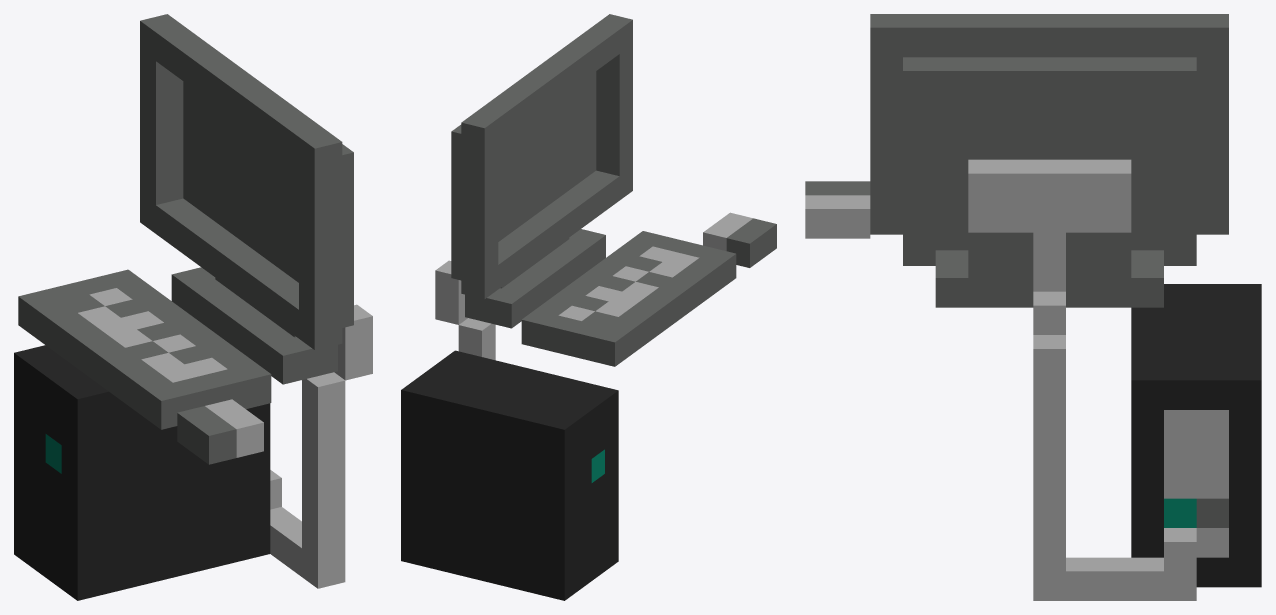
The model's file is pc-frame.obj.
The picture shows the model from 3 angles, left to right: view 1: azimuth 30°, elevation 25°; view 2: azimuth 150°, elevation 25°; view 3: azimuth 270°, elevation 25°; orthographic projection. The views are drawn at different scales.
Size of the model in its own units: 1 by 1.8 by 1.4.
Materials: 1 (1 with a texture image).
